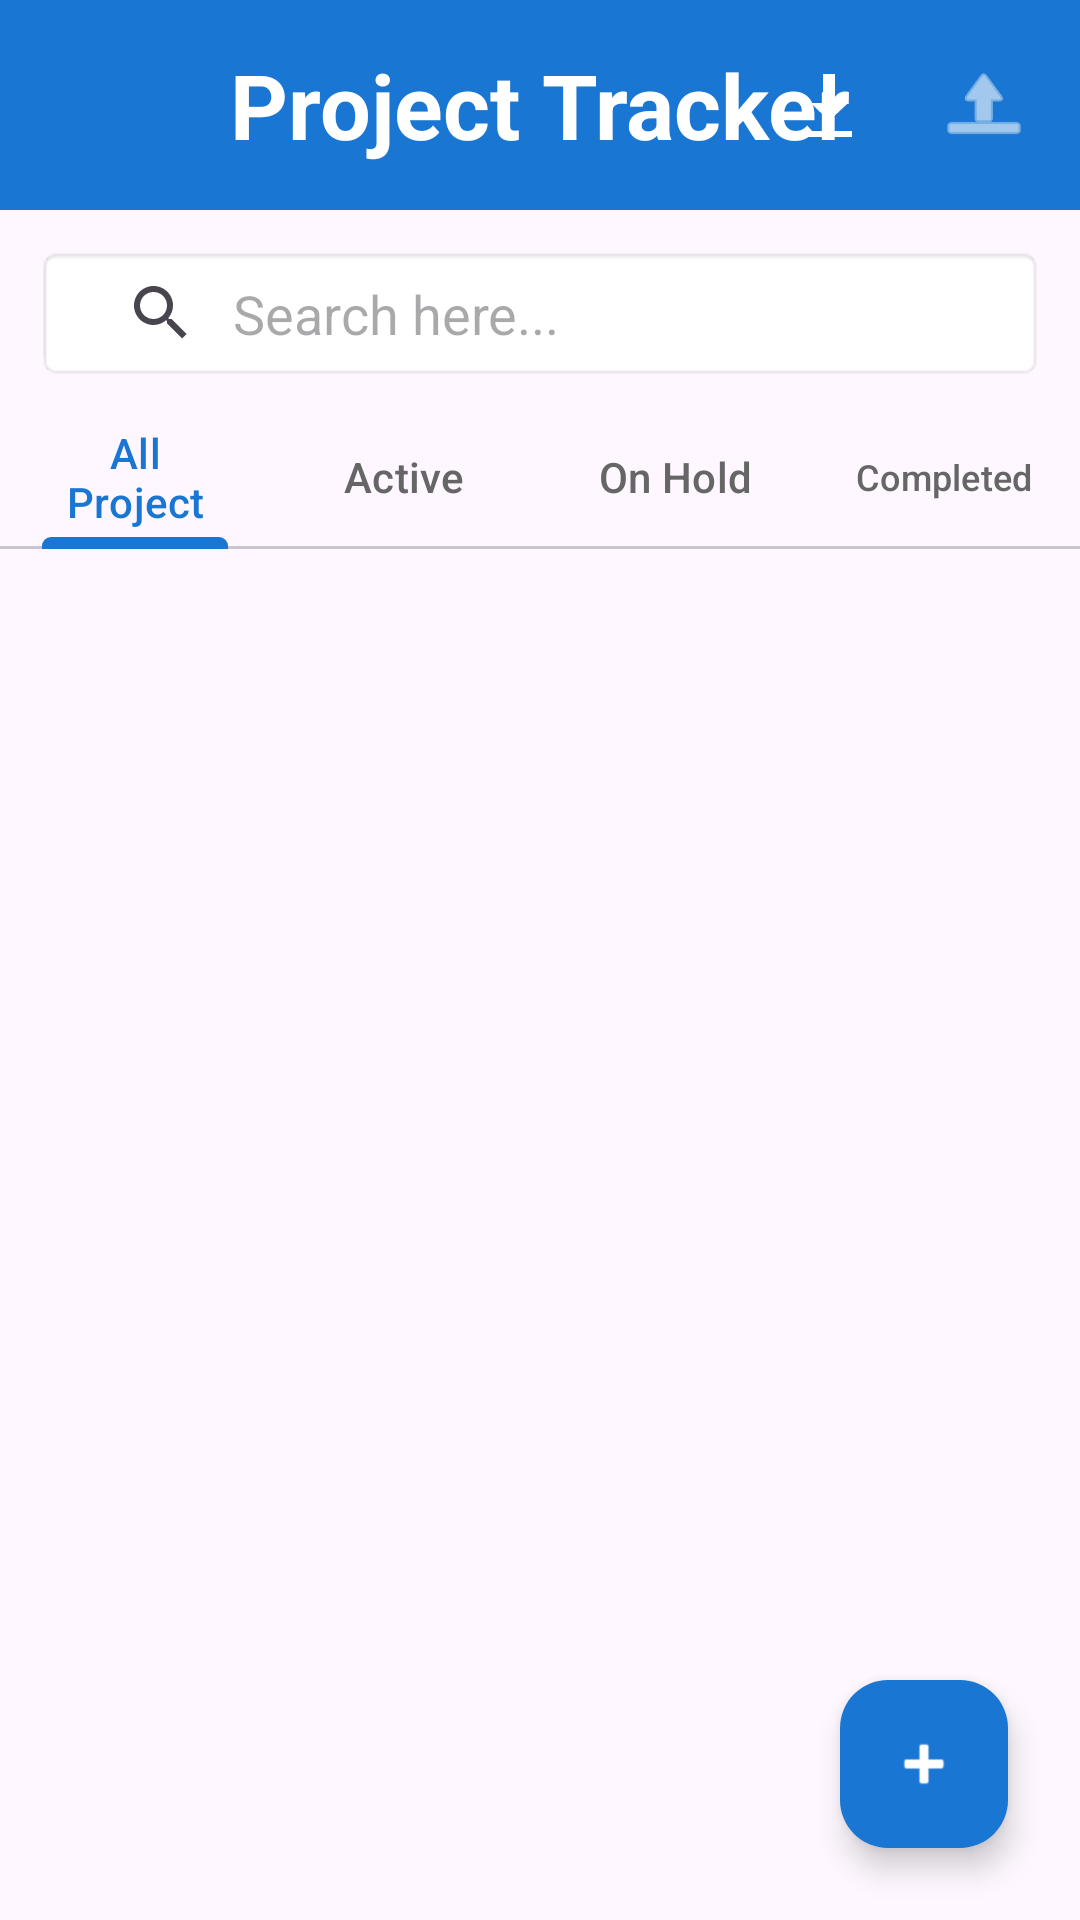

Named icons in this screenshot (1080×1920) and their centers, point (x, y):
Add Project: point (924, 1764)
Upload to Cloud: point (984, 103)
